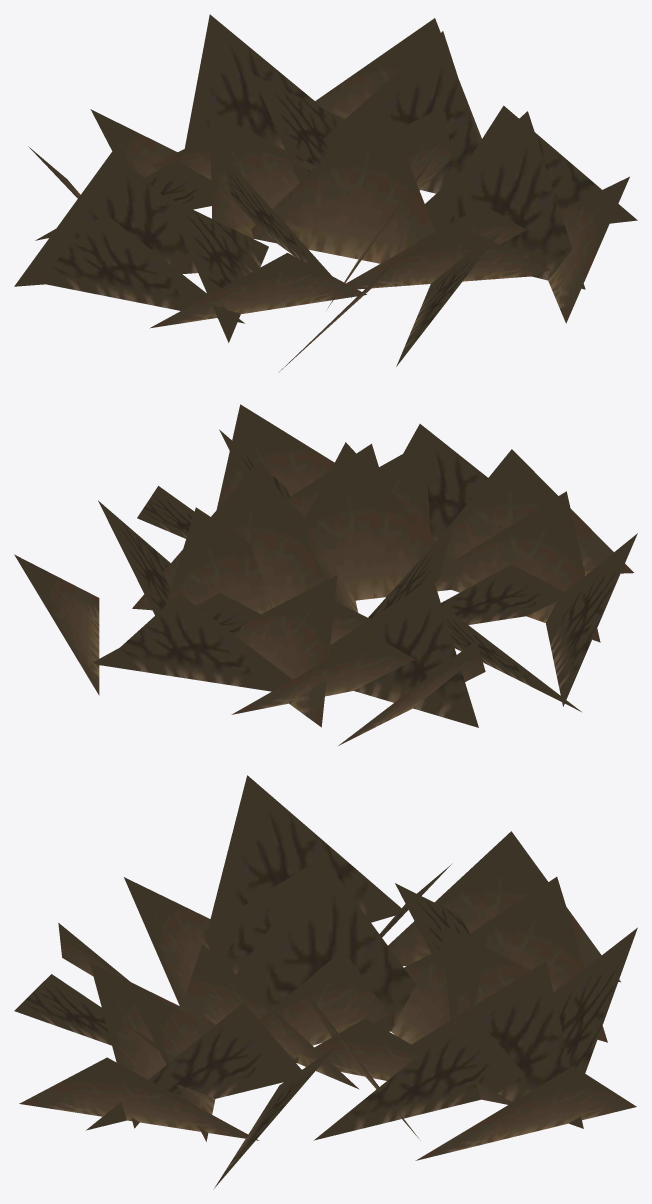
The model's file is dec_dry_grass_010_83506.glb.
3 renders of one model, top to bottom at view 1: azimuth 30°, elevation 25°; view 2: azimuth 150°, elevation 25°; view 3: azimuth 270°, elevation 25°, orthographic. The views are drawn at different scales.
Parts seen in each view (by area): view 1: dry_grass_010_mesh; view 2: dry_grass_010_mesh; view 3: dry_grass_010_mesh.
Part boxes in pixels (left/top/right/bottom): dry_grass_010_mesh: left=14, top=14, right=637, bottom=372; dry_grass_010_mesh: left=14, top=404, right=637, bottom=745; dry_grass_010_mesh: left=14, top=775, right=637, bottom=1189.
Size of the model in its own units: 1.21 by 0.2652 by 1.11.
Materials: 1 (1 with a texture image).
